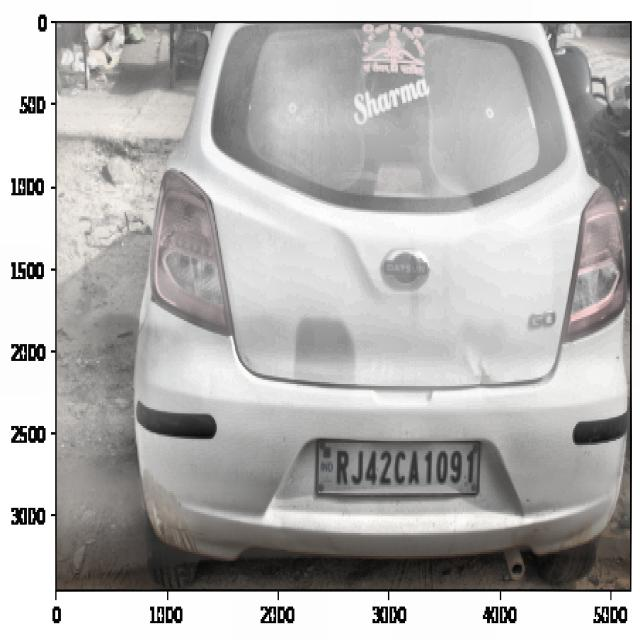license_plate: (331, 438, 482, 496)
